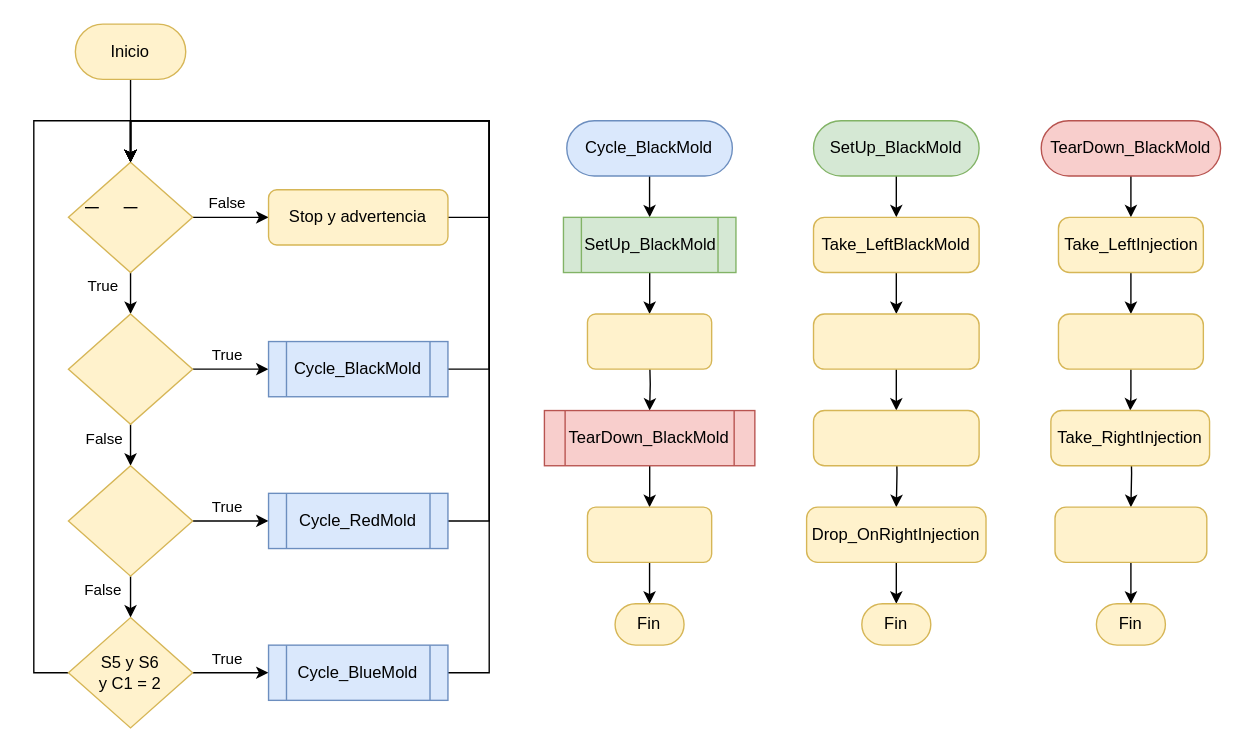
This 1245x752 diagram has some shape labels left out. The shapes that lost their labels are listed below. From the top down, each one's centre as x and y in pixels, then its label:
point 130,217: S7 y S8 y S9
point 649,341: Esperar por A1
point 895,341: Drop_OnLeftInjection
point 1130,341: Drop_InLeftBlack
point 130,368: S1 y S2 y C1 = 0
point 895,437: Take_RightBlackMold
point 130,520: S3 y S4 y C1 = 1
point 649,534: C1 = 1
point 1130,534: Drop_InRightBlack
